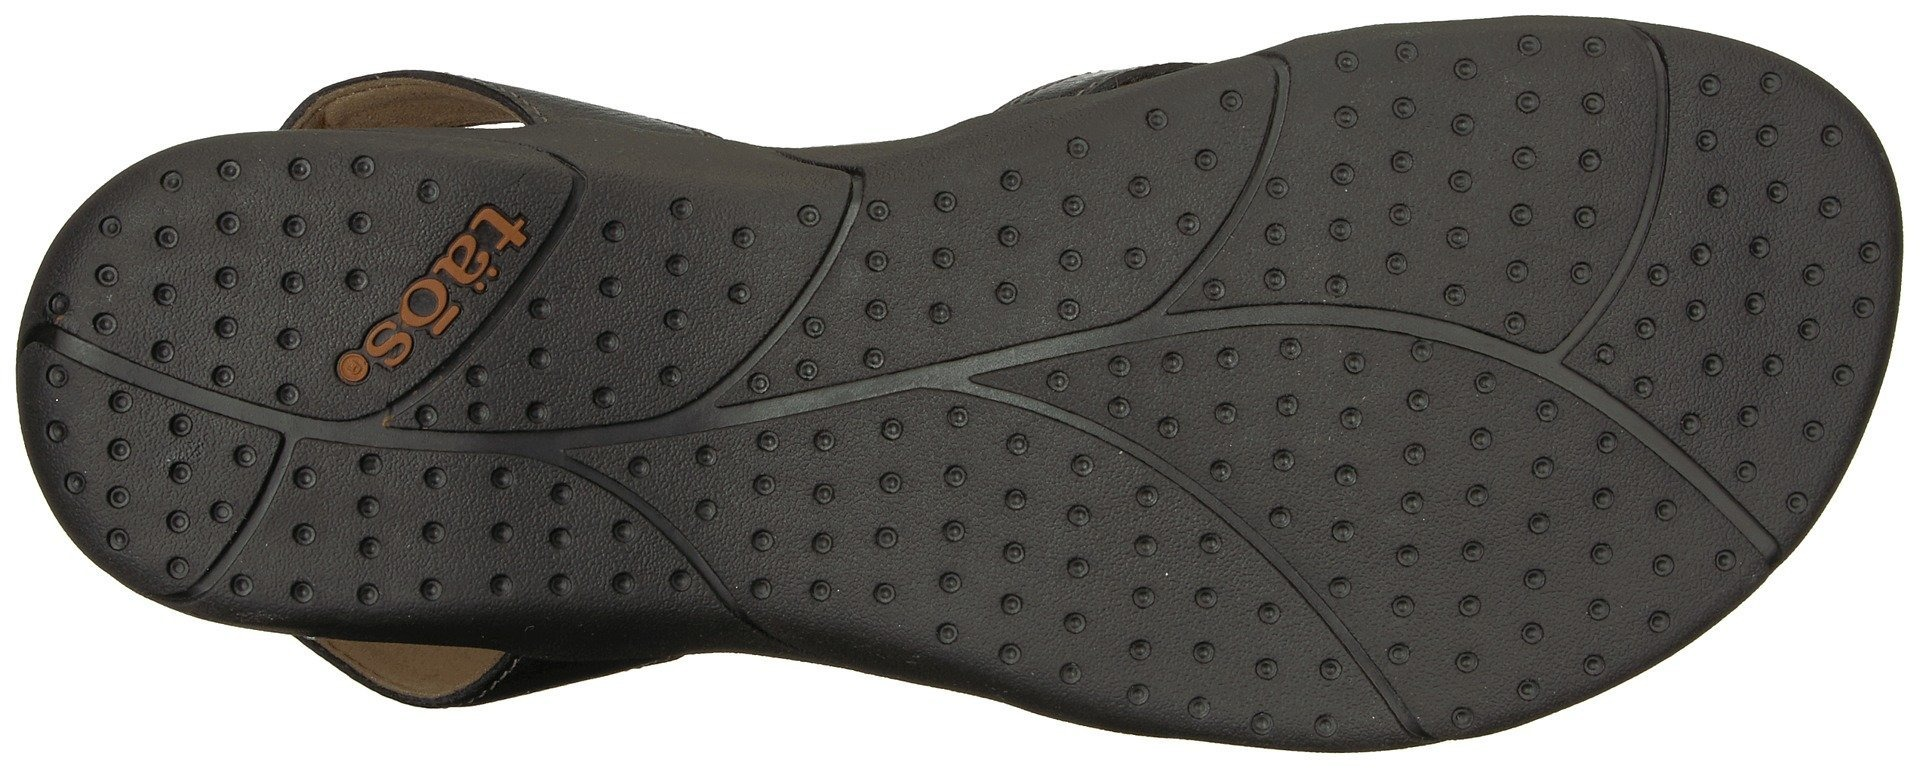circle: (1311, 351, 1569, 629), (1320, 64, 1588, 312), (827, 411, 1079, 662), (1647, 198, 1858, 415), (1080, 360, 1307, 557), (920, 160, 1109, 336), (136, 184, 320, 353), (564, 204, 753, 365), (323, 454, 485, 611)
exclude: (263, 631, 760, 745), (262, 38, 785, 146)
text: (425, 201, 524, 269), (369, 298, 448, 377)
